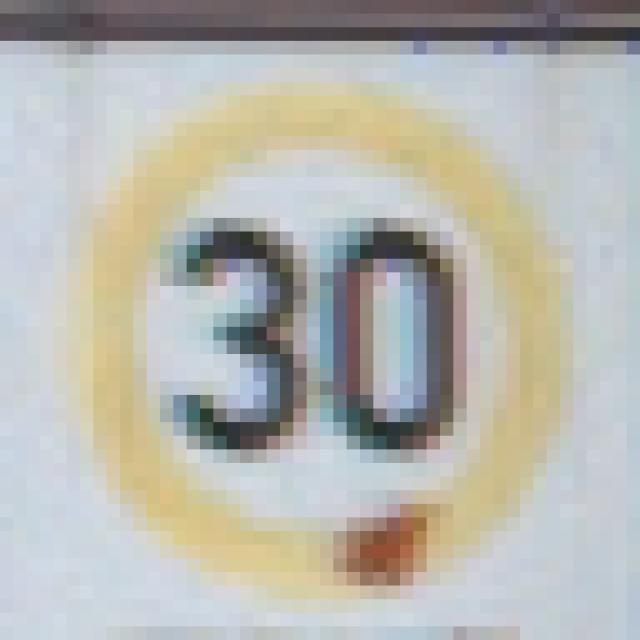Speed Limit -30-: (73, 75, 567, 565)
